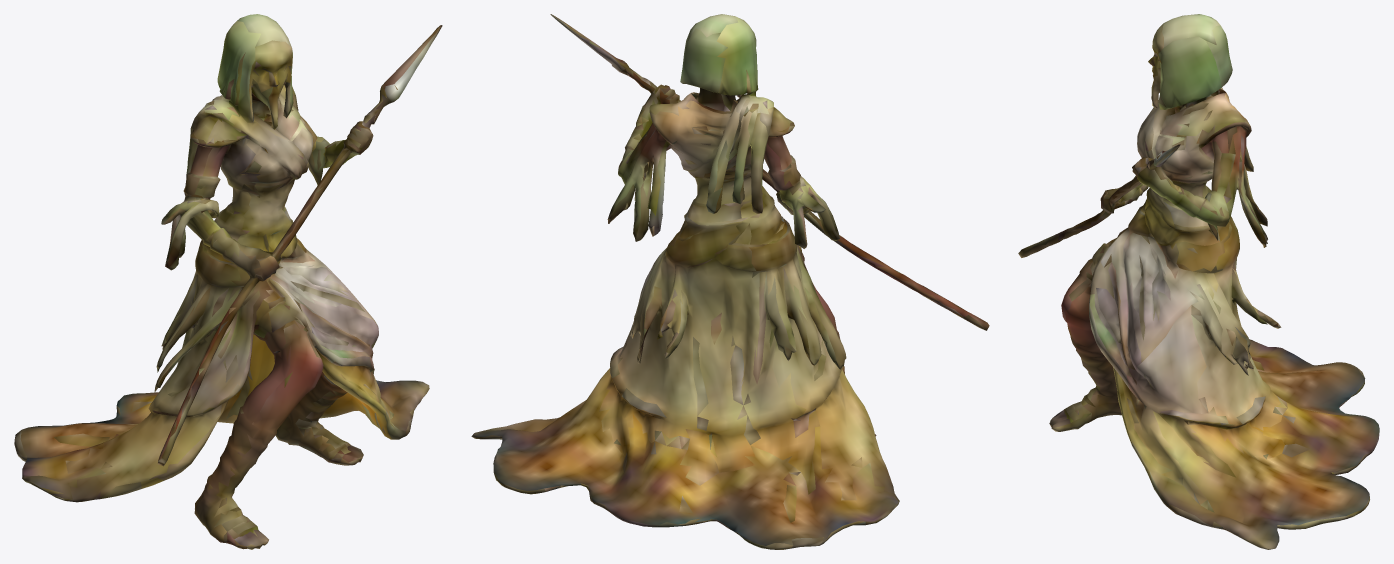
The model's file is Thmei_final.glb.
3 renders of one model, left to right at view 1: azimuth 30°, elevation 25°; view 2: azimuth 150°, elevation 25°; view 3: azimuth 270°, elevation 25°, orthographic. The views are drawn at different scales.
Visible parts, largest first — view 1: Mesh_0; view 2: Mesh_0; view 3: Mesh_0.
Boxes of the visible parts, x1,y1,x2,y2 form: Mesh_0: (14,14,442,549); Mesh_0: (471,14,989,549); Mesh_0: (1018,14,1379,549).
Size of the model in its own units: 1.88 by 2 by 1.47.
1 material, 1 textured.
